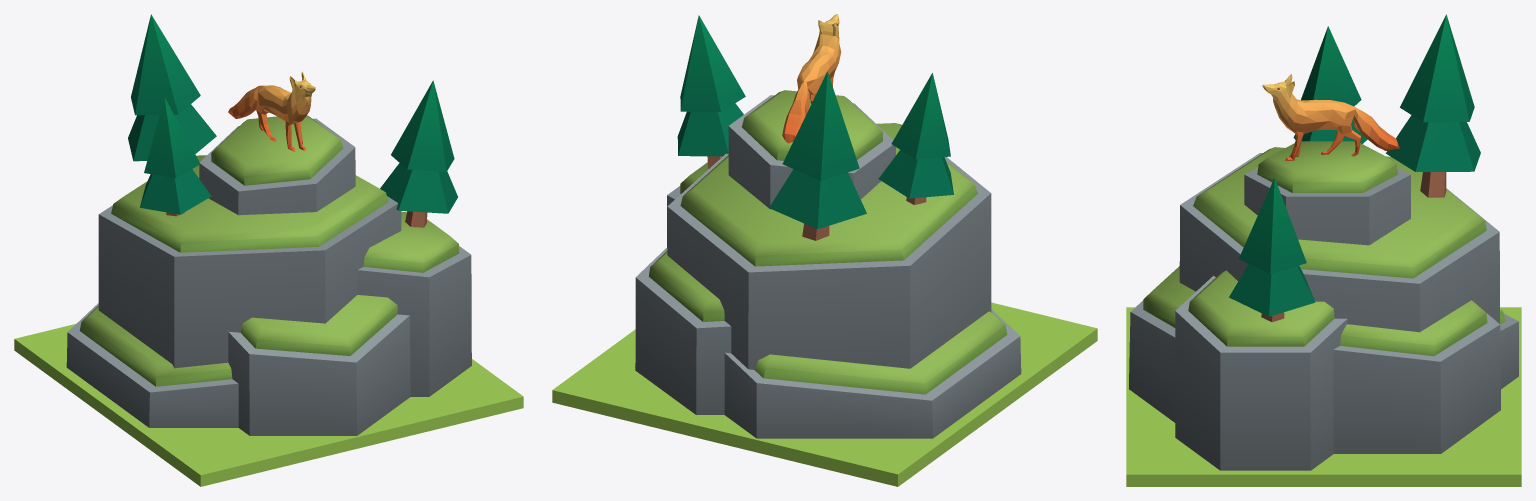
The model's file is fox.glb.
The picture shows the model from 3 angles, left to right: view 1: azimuth 30°, elevation 25°; view 2: azimuth 150°, elevation 25°; view 3: azimuth 270°, elevation 25°; orthographic projection. The views are drawn at different scales.
Parts seen in each view (by area): view 1: Fox; view 2: Fox; view 3: Fox.
Boxes of the visible parts, left/top/right/bottom form: Fox: left=14, top=14, right=523, bottom=486; Fox: left=552, top=14, right=1097, bottom=486; Fox: left=1126, top=14, right=1521, bottom=486.
Size of the model in its own units: 0.2917 by 0.2899 by 0.29.
2 materials, 2 textured.
